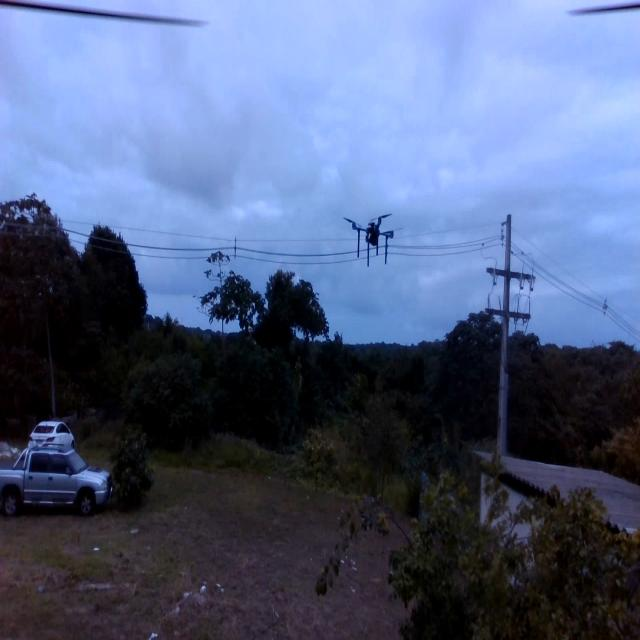-uav-: (339, 199, 400, 271)
